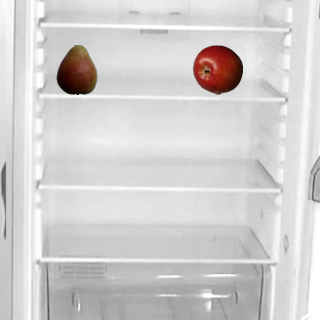Apple Braeburn: (192, 44, 242, 94)
Pear Forelle: (51, 44, 101, 94)
